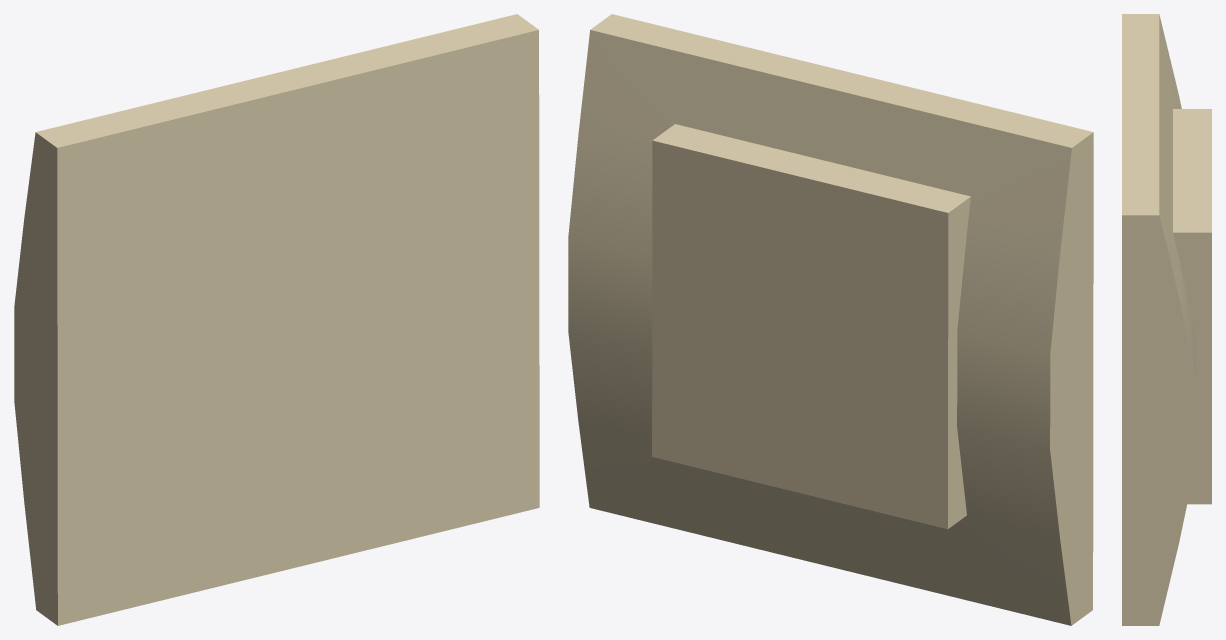
The model's file is light_switch.fbx.
3 renders of one model, left to right at view 1: azimuth 30°, elevation 25°; view 2: azimuth 150°, elevation 25°; view 3: azimuth 270°, elevation 25°, orthographic. The views are drawn at different scales.
Parts seen in each view (by area): view 1: light_switch.002; view 2: light_switch.002; view 3: light_switch.002.
Part boxes in pixels (x1=…): light_switch.002: x1=14, y1=14, x2=539, y2=625; light_switch.002: x1=568, y1=14, x2=1093, y2=625; light_switch.002: x1=1122, y1=14, x2=1211, y2=625.
Bounding box in the file's own units: 8.11 × 7.69 × 1.52.
